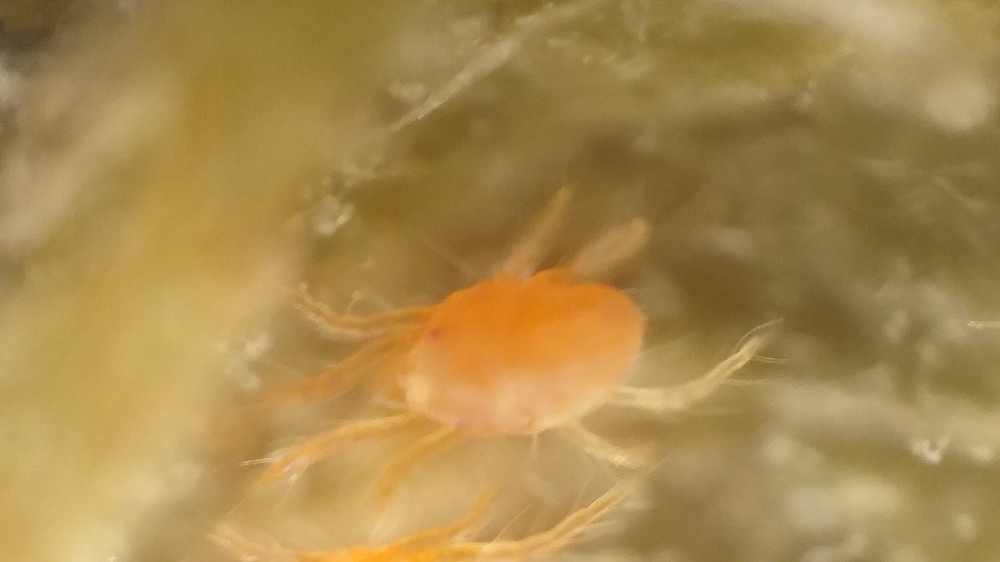Aracnido Rojo: (241, 170, 795, 531)
